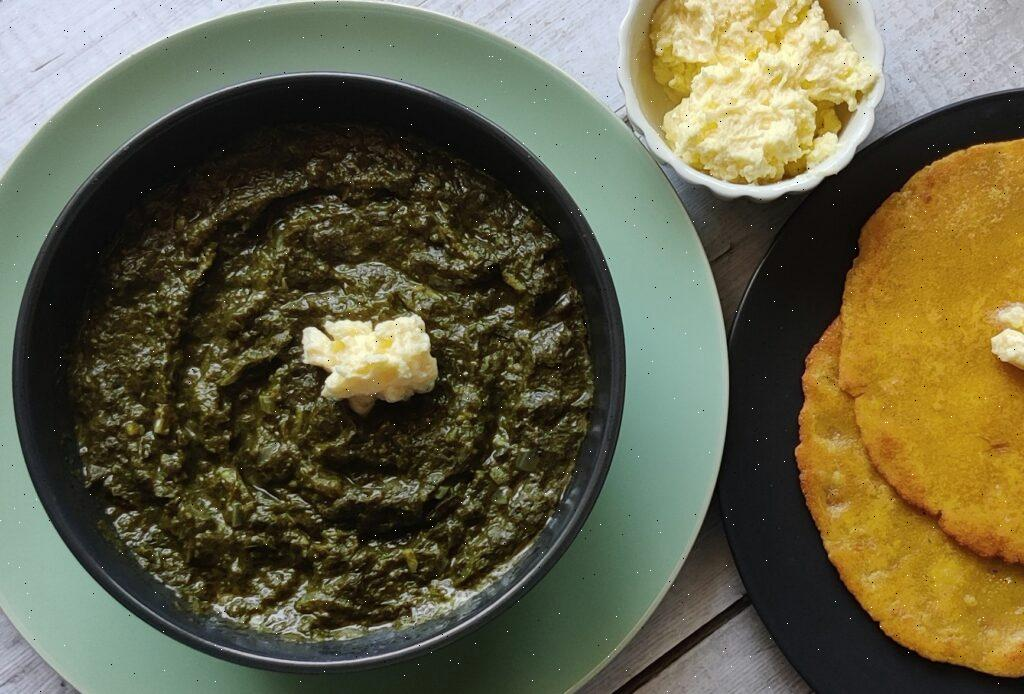saag: (51, 141, 598, 636)
